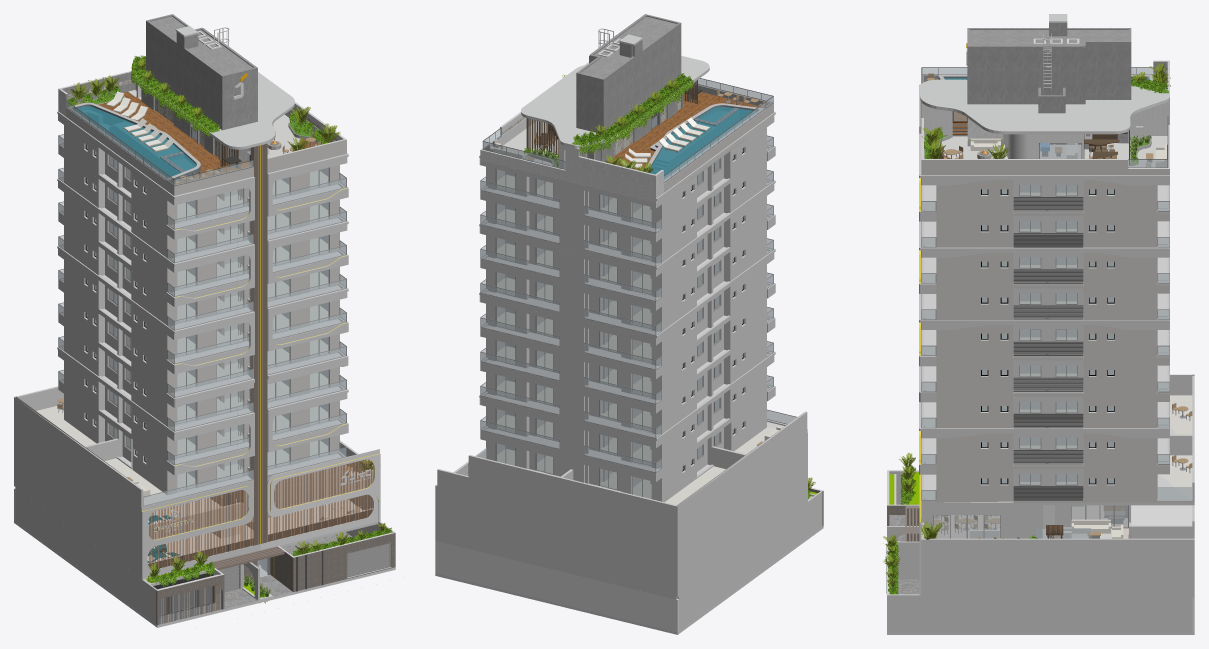
File: building.glb
3 renders of one model, left to right at view 1: azimuth 30°, elevation 25°; view 2: azimuth 150°, elevation 25°; view 3: azimuth 270°, elevation 25°, orthographic. The views are drawn at different scales.
Parts seen in each view (by area): view 1: Group - superficie.739, Group - superficie.083, Componente12433 - superficie, Componente#2 - superficie.003, Componente#2 - superficie.002, Componente#2 - superficie, Componente#2 - superficie.001, Componente13274 - superficie, Componente12172 - superficie, Componente#3 - superficie, Group - superficie.015, Componente15083#1 - superficie (+70 smaller); view 2: Componente13274 - superficie, Componente12433 - superficie, Componente12172 - superficie, Group - superficie.083, Componente#2 - superficie, Componente#2 - superficie.003, Componente#2 - superficie.002, Componente#2 - superficie.001, Group - superficie.931, Componente#3 - superficie, Componente13274 - superficie.005, Componente13274 - superficie.007 (+50 smaller); view 3: Group - superficie.083, Componente15083#1 - superficie, Componente12433 - superficie, Componente12172 - superficie, Group - superficie.094, Componente17096 - superficie, Group - superficie.517, Group - superficie.425, Group - superficie.443, Group - superficie.702, Group - superficie.628, Group - superficie.554 (+55 smaller).
Part boxes in pixels (x1=…): Group - superficie.739: x1=148, y1=459, x2=373, y2=568; Group - superficie.083: x1=62, y1=14, x2=257, y2=185; Componente12433 - superficie: x1=14, y1=418, x2=373, y2=579; Componente#2 - superficie.003: x1=57, y1=246, x2=348, y2=374; Componente#2 - superficie.002: x1=57, y1=178, x2=348, y2=306; Componente#2 - superficie: x1=57, y1=347, x2=348, y2=475; Componente#2 - superficie.001: x1=57, y1=111, x2=348, y2=239; Componente13274 - superficie: x1=14, y1=385, x2=345, y2=510; Componente12172 - superficie: x1=14, y1=456, x2=378, y2=578; Componente#3 - superficie: x1=58, y1=284, x2=348, y2=407; Group - superficie.015: x1=254, y1=143, x2=267, y2=545; Componente15083#1 - superficie: x1=15, y1=487, x2=395, y2=623; Componente13274 - superficie: x1=468, y1=396, x2=807, y2=528; Componente12433 - superficie: x1=435, y1=429, x2=807, y2=566; Componente12172 - superficie: x1=435, y1=472, x2=807, y2=599; Group - superficie.083: x1=576, y1=14, x2=771, y2=162; Componente#2 - superficie: x1=479, y1=351, x2=775, y2=477; Componente#2 - superficie.003: x1=479, y1=248, x2=775, y2=374; Componente#2 - superficie.002: x1=479, y1=180, x2=775, y2=305; Componente#2 - superficie.001: x1=479, y1=111, x2=775, y2=237; Group - superficie.931: x1=435, y1=487, x2=823, y2=632; Componente#3 - superficie: x1=480, y1=293, x2=775, y2=408; Componente13274 - superficie.005: x1=480, y1=225, x2=771, y2=340; Componente13274 - superficie.007: x1=480, y1=156, x2=771, y2=271; Group - superficie.083: x1=922, y1=23, x2=1167, y2=136; Componente15083#1 - superficie: x1=887, y1=470, x2=1192, y2=632; Componente12433 - superficie: x1=921, y1=505, x2=1194, y2=562; Componente12172 - superficie: x1=907, y1=472, x2=1194, y2=597; Group - superficie.094: x1=921, y1=60, x2=1169, y2=175; Componente17096 - superficie: x1=920, y1=14, x2=1169, y2=134; Group - superficie.517: x1=936, y1=360, x2=1169, y2=396; Group - superficie.425: x1=936, y1=469, x2=1194, y2=502; Group - superficie.443: x1=936, y1=433, x2=1169, y2=469; Group - superficie.702: x1=936, y1=180, x2=1169, y2=216; Group - superficie.628: x1=936, y1=252, x2=1169, y2=288; Group - superficie.554: x1=936, y1=325, x2=1169, y2=360.
Bounding box in the file's own units: 24.44 × 49.54 × 26.93.
Materials: 117 (38 with a texture image).
